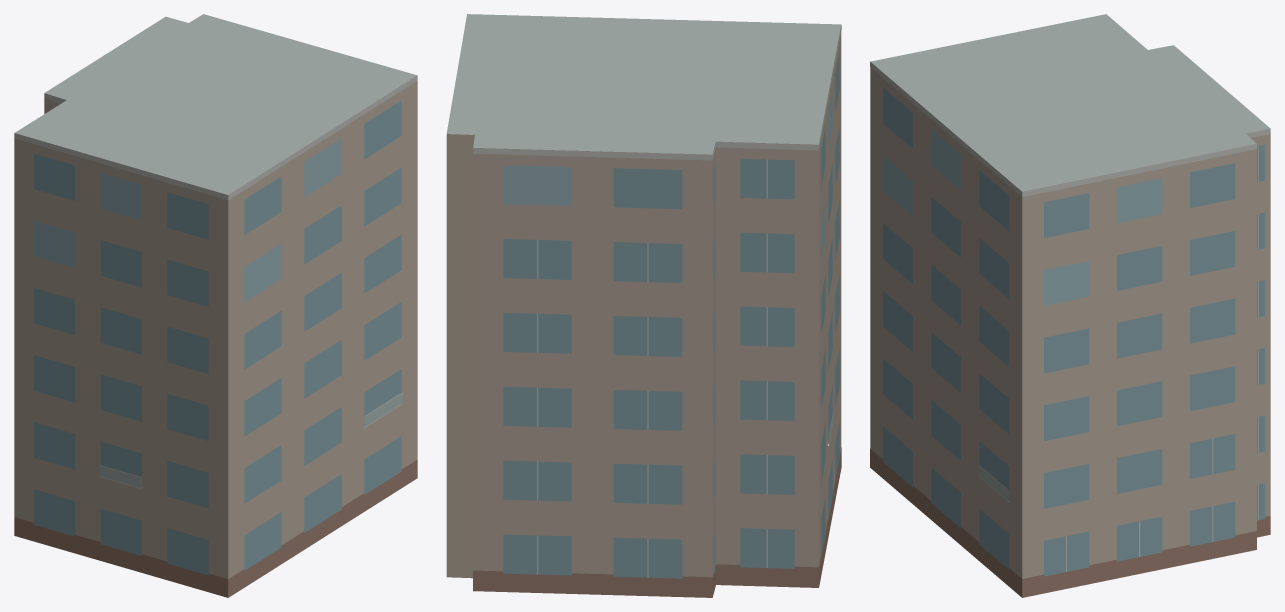
File: survey-upis-33029166.glb
The picture shows the model from 3 angles, left to right: view 1: azimuth 30°, elevation 25°; view 2: azimuth 150°, elevation 25°; view 3: azimuth 270°, elevation 25°; orthographic projection. The views are drawn at different scales.
Parts seen in each view (by area): view 1: survey-upis-33029166.tmp; view 2: survey-upis-33029166.tmp; view 3: survey-upis-33029166.tmp.
Boxes of the visible parts, box(x1,y1,x2,y2) form: survey-upis-33029166.tmp: box(14, 14, 417, 597); survey-upis-33029166.tmp: box(446, 14, 841, 597); survey-upis-33029166.tmp: box(870, 14, 1270, 597).
Bounding box in the file's own units: 17.38 × 18.5 × 16.54.
